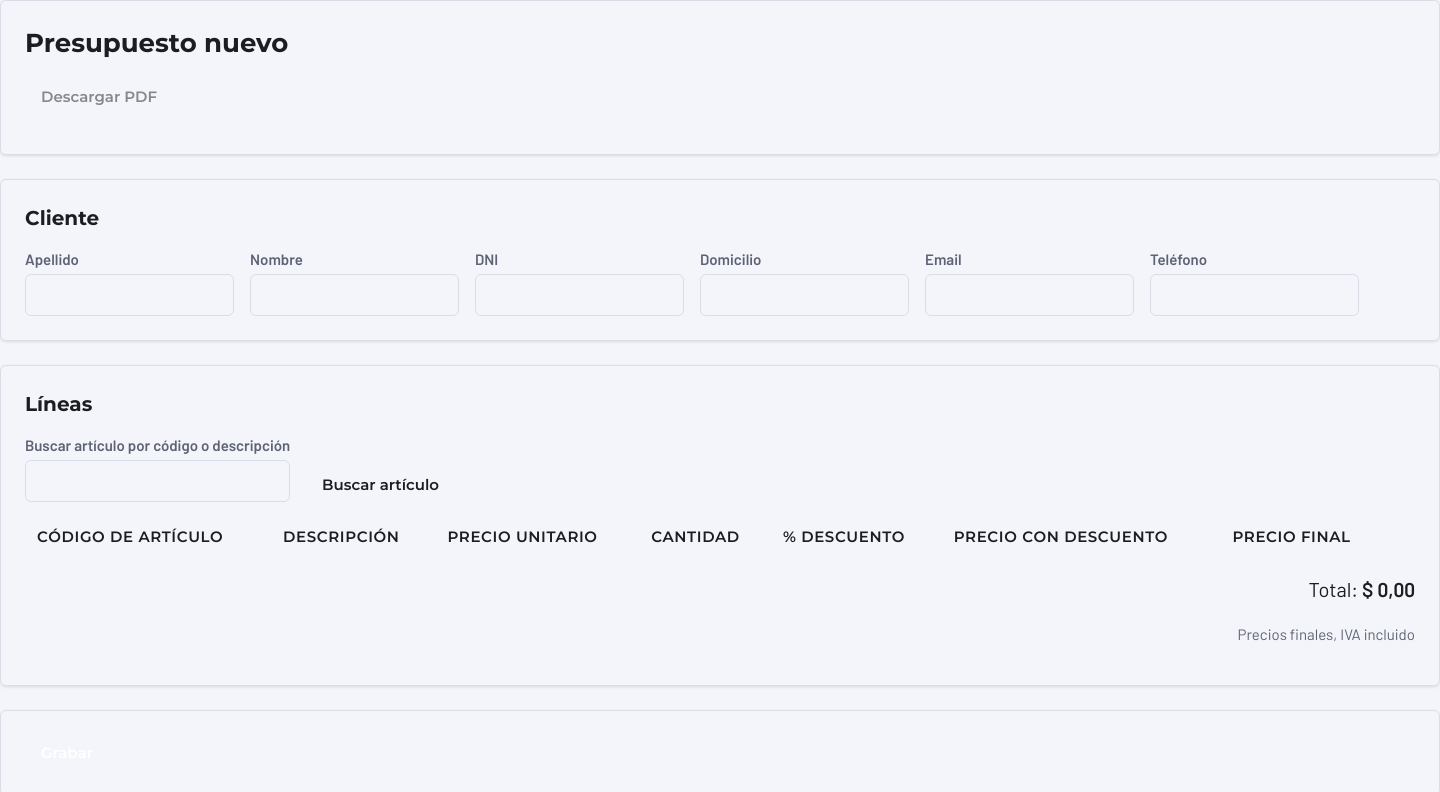
Test case: EditorPresupuesto › recalcula la línea y el total al cambiar cantidad y descuento (AC-46)
Type "ABC" into the field labelled "Buscar artículo por código o descripción" at (158, 481), box [25,460,290,502]
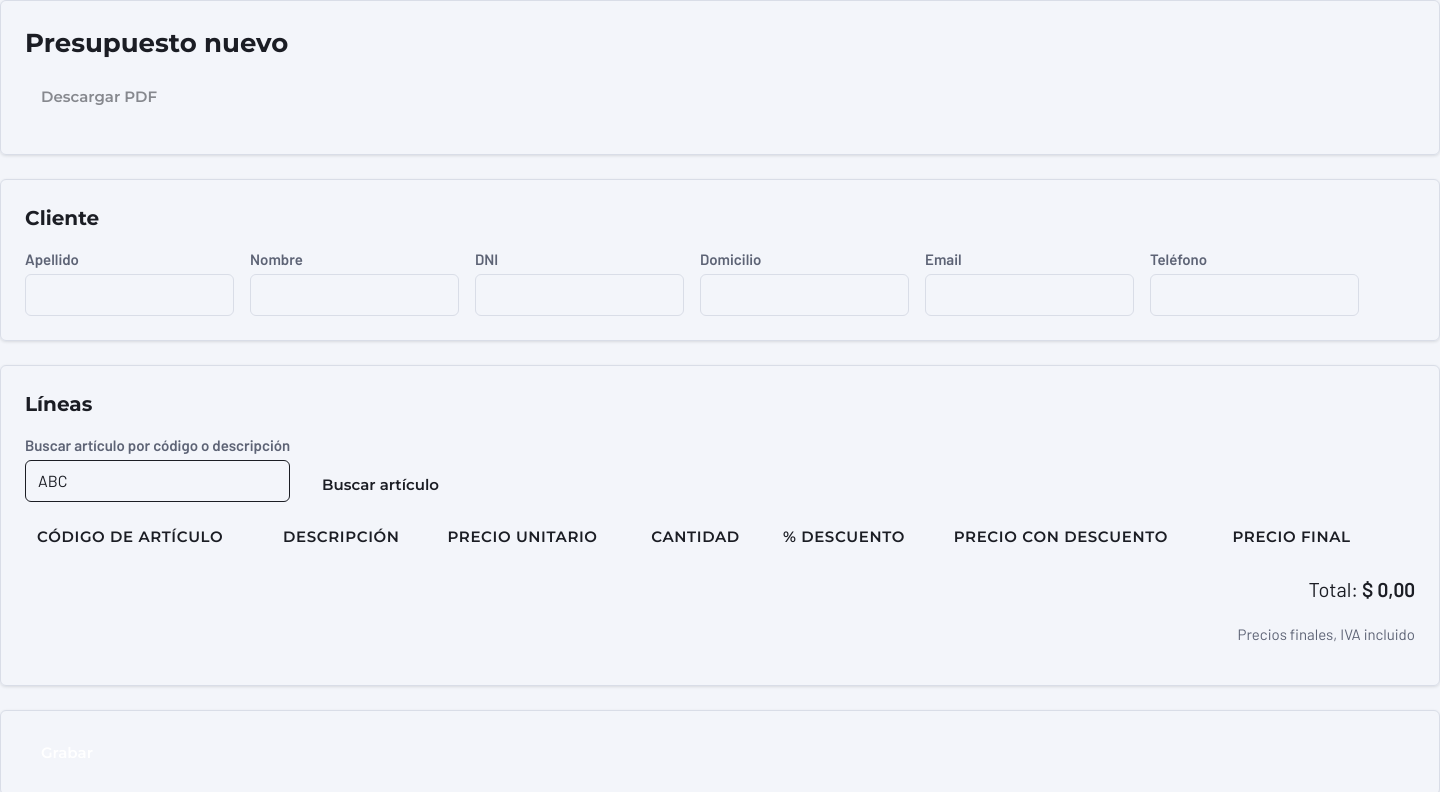
Click the button "Buscar artículo" at (381, 484), box [306,467,455,502]
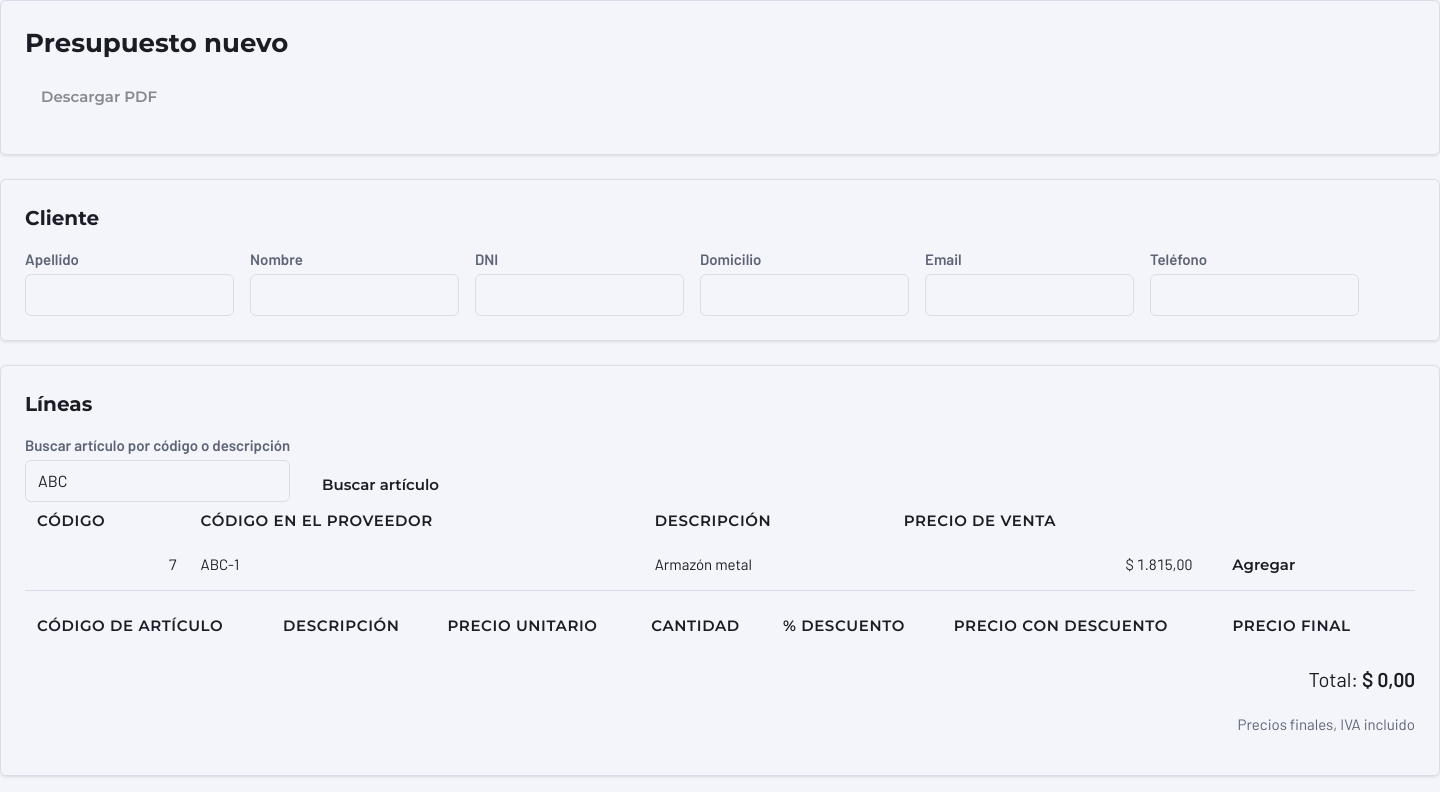
Click the button with aria-label "Agregar Armazón metal" at (1264, 565), box [1216,547,1311,582]
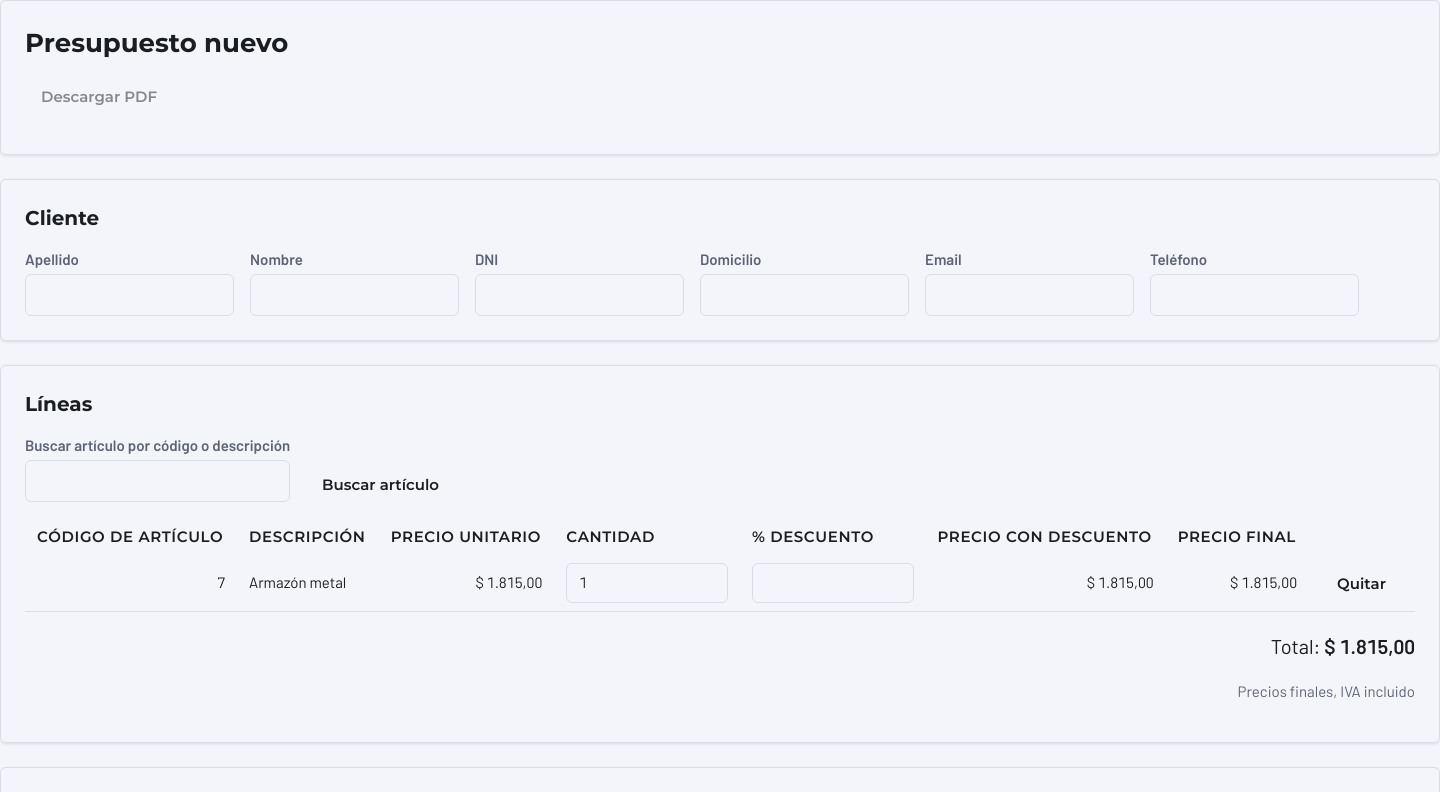
Replace the text in the field named "Cantidad de la línea 1" with "3" at (647, 583), box [566,563,728,603]
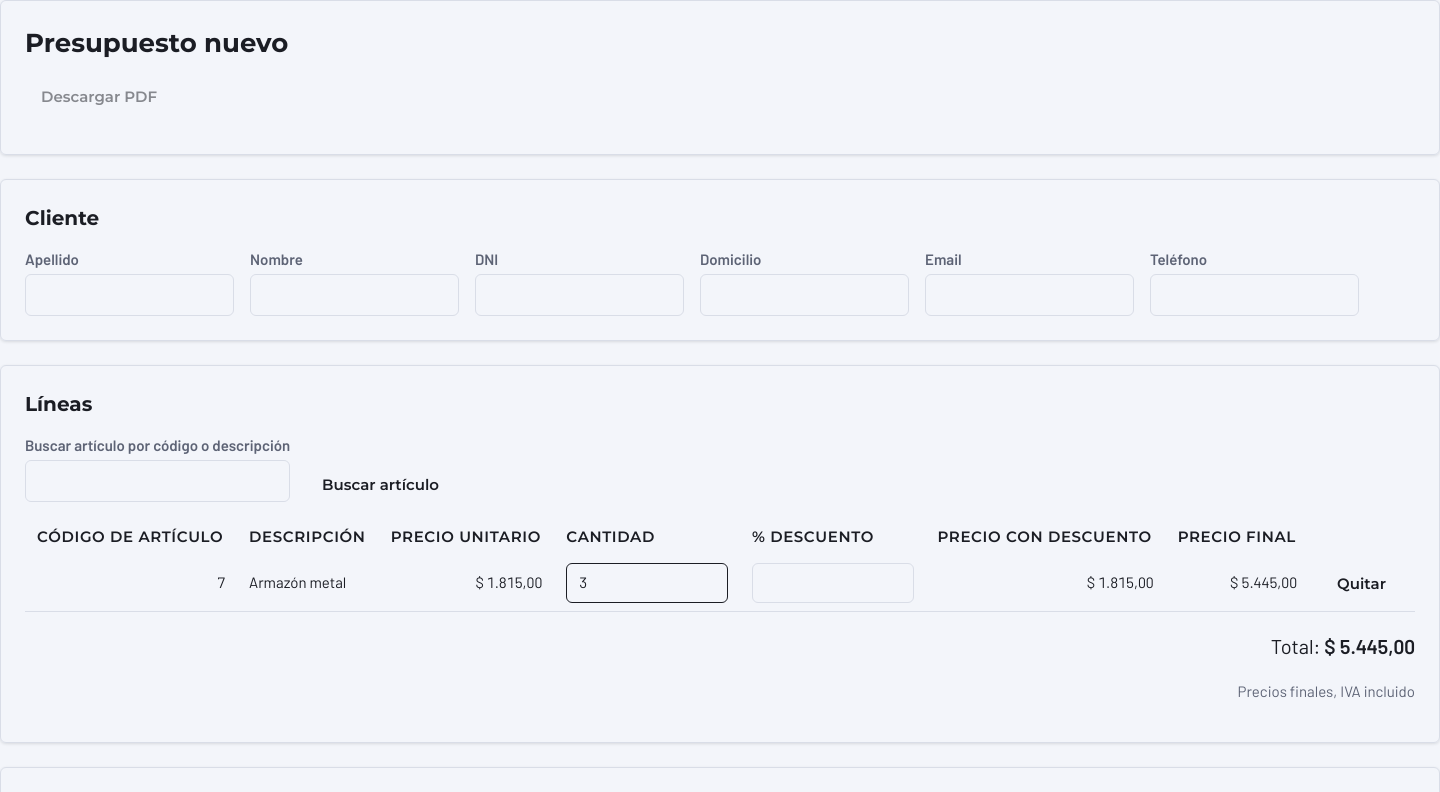
Type "10" into the field named "Descuento (%) de la línea 1" at (833, 583), box [752,563,914,603]
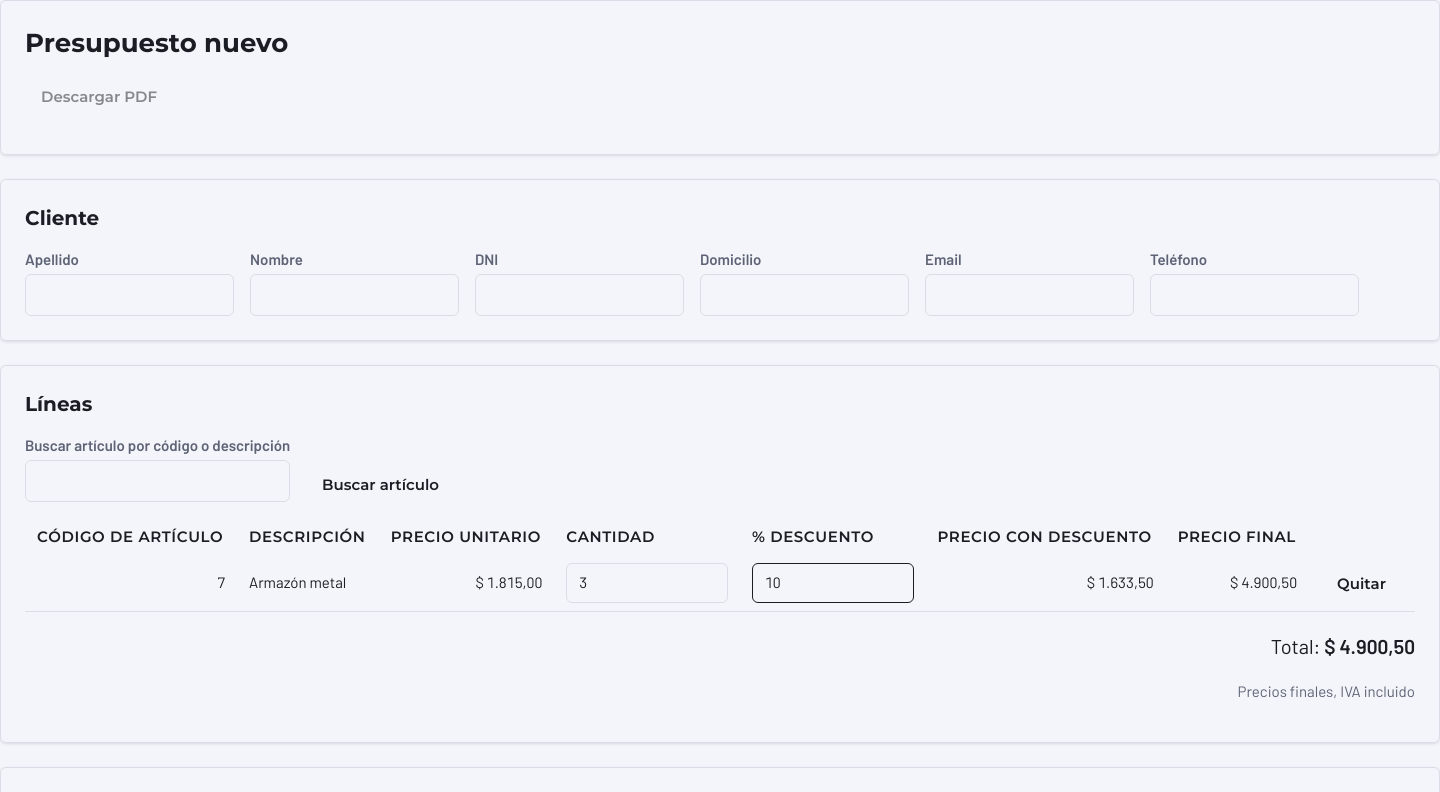
Expected: the text "$ 1.633,50" is shown, [926,555,1166,612]
Expected: the text "$ 4.900,50" is shown, [1166,555,1309,612]
Expected: the text with test id "total" reads "$ 4.900,50", [1324,634,1415,658]
